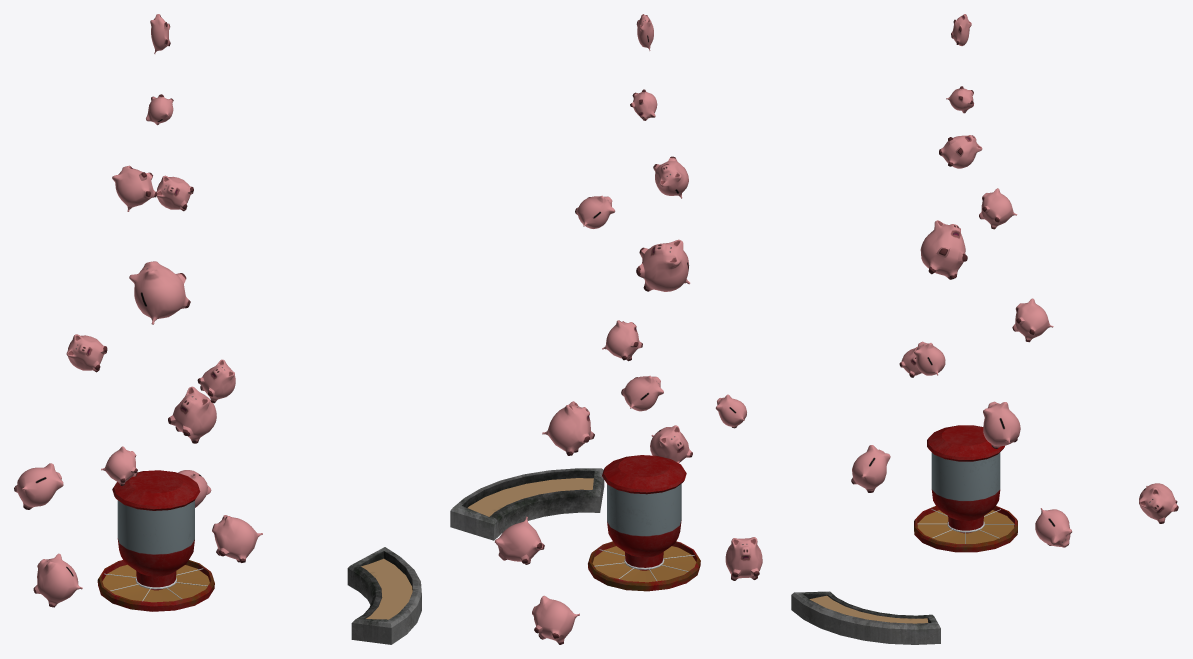
File: pigs.obj
3 renders of one model, left to right at view 1: azimuth 30°, elevation 25°; view 2: azimuth 150°, elevation 25°; view 3: azimuth 270°, elevation 25°, orthographic. The views are drawn at different scales.
Visible parts, largest first — view 1: Pig_Pig_0; view 2: Pig_Pig_0; view 3: Pig_Pig_0.
Boxes of the visible parts, <box> form: Pig_Pig_0: <box>14,14,421,644</box>; Pig_Pig_0: <box>450,14,762,644</box>; Pig_Pig_0: <box>791,14,1178,644</box>.
Bounding box in the file's own units: 45.89 × 77.83 × 50.42.
Materials: 1 (1 with a texture image).
